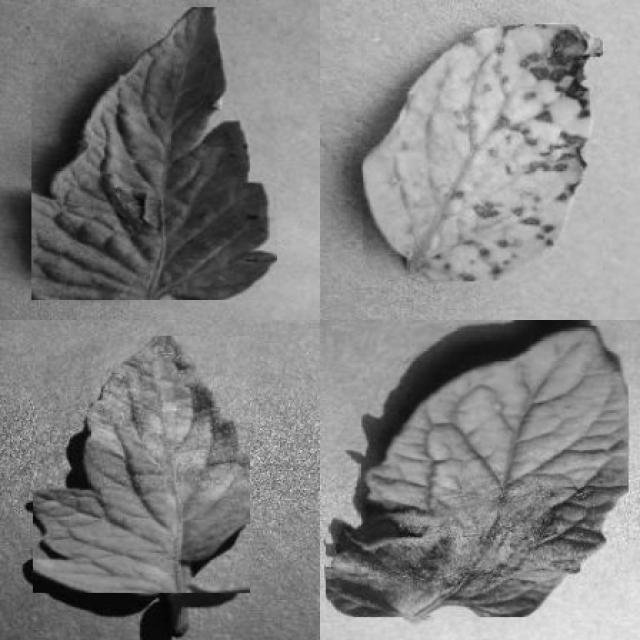Early Blight: (32, 7, 278, 300)
Late Blight: (326, 326, 630, 617)
Leaf Mold: (33, 336, 250, 594)
Septoria: (363, 25, 603, 282)
